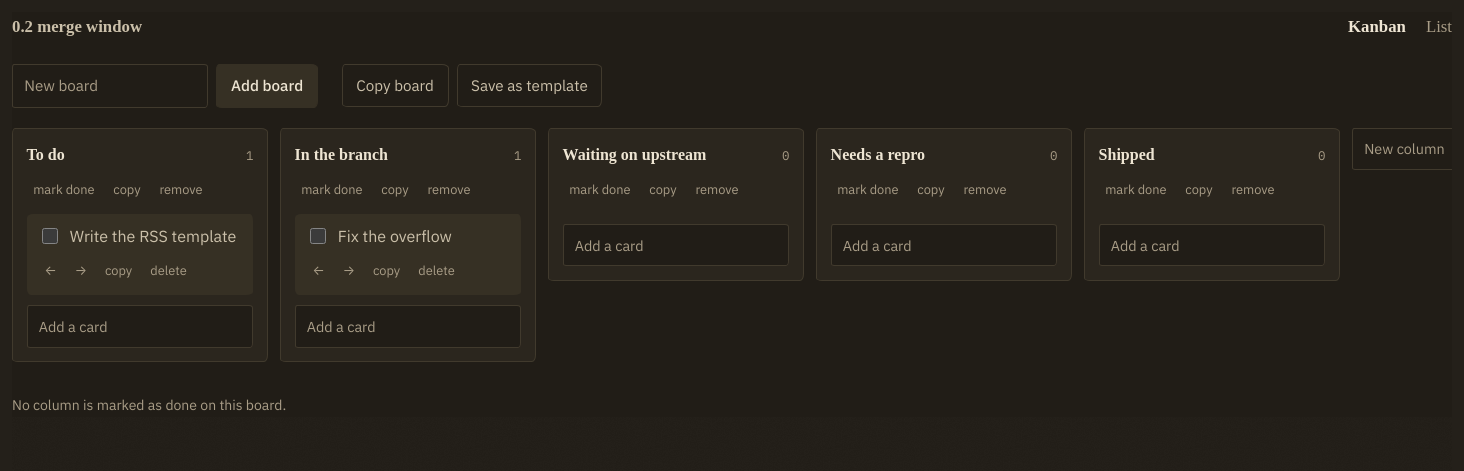
BoardsPanel › saves the open board as a template and leaves it open
Click the button "Save as template": (529, 86) [456, 64, 602, 107]
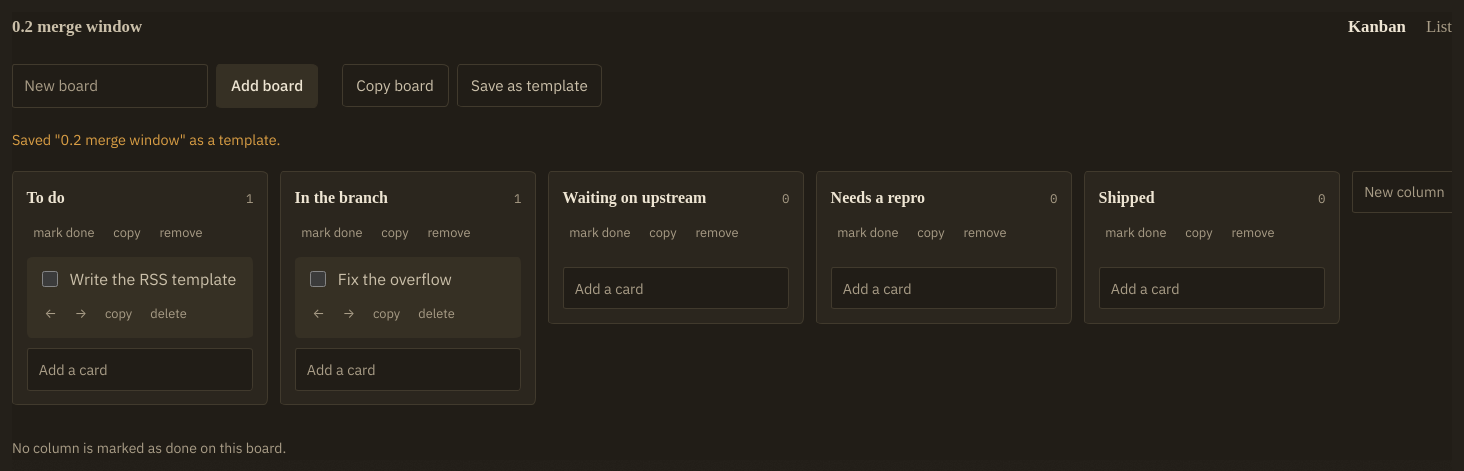
Expected: the element with class "kanban" is shown, [12, 171, 1452, 417]
Result: the message "Saved \"0.2 merge window\" as a template." shows "Saved \"0.2 merge window\" as a template" at [12, 130, 280, 148]
